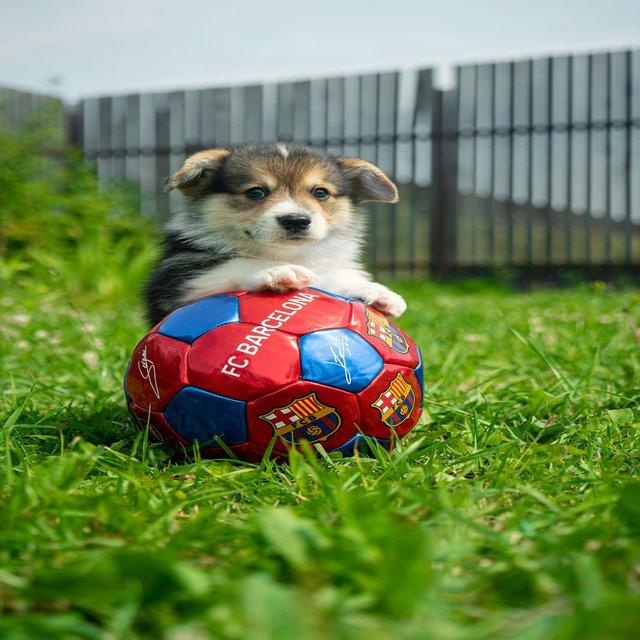corgi: (139, 139, 407, 330)
